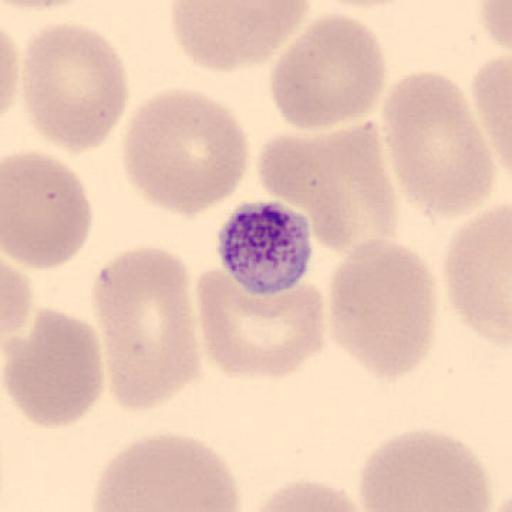Platelet: (213, 197, 316, 295)
RBC: (258, 120, 399, 254), (91, 243, 201, 410), (122, 87, 250, 218), (381, 70, 494, 218), (326, 237, 440, 382), (20, 20, 131, 154), (195, 270, 327, 380), (269, 11, 388, 131), (2, 307, 105, 429), (92, 430, 242, 512), (356, 427, 494, 512), (2, 148, 93, 271), (167, 0, 313, 73), (442, 206, 512, 344), (472, 52, 512, 178), (245, 476, 370, 512), (1, 254, 33, 340), (0, 22, 20, 122), (479, 0, 512, 51), (316, 0, 412, 10), (0, 0, 84, 11)
